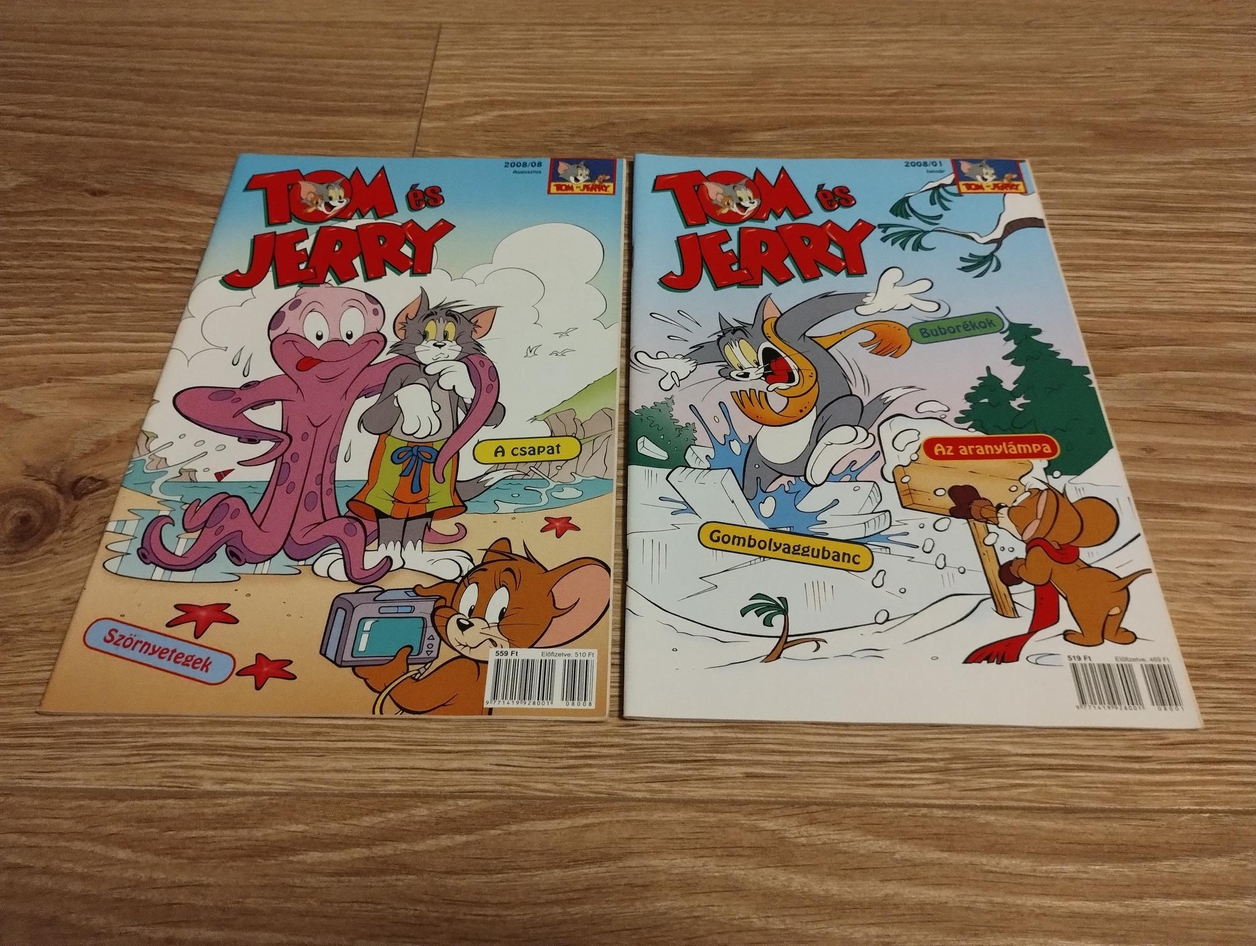comic: (42, 147, 624, 721), (625, 155, 1204, 728)
